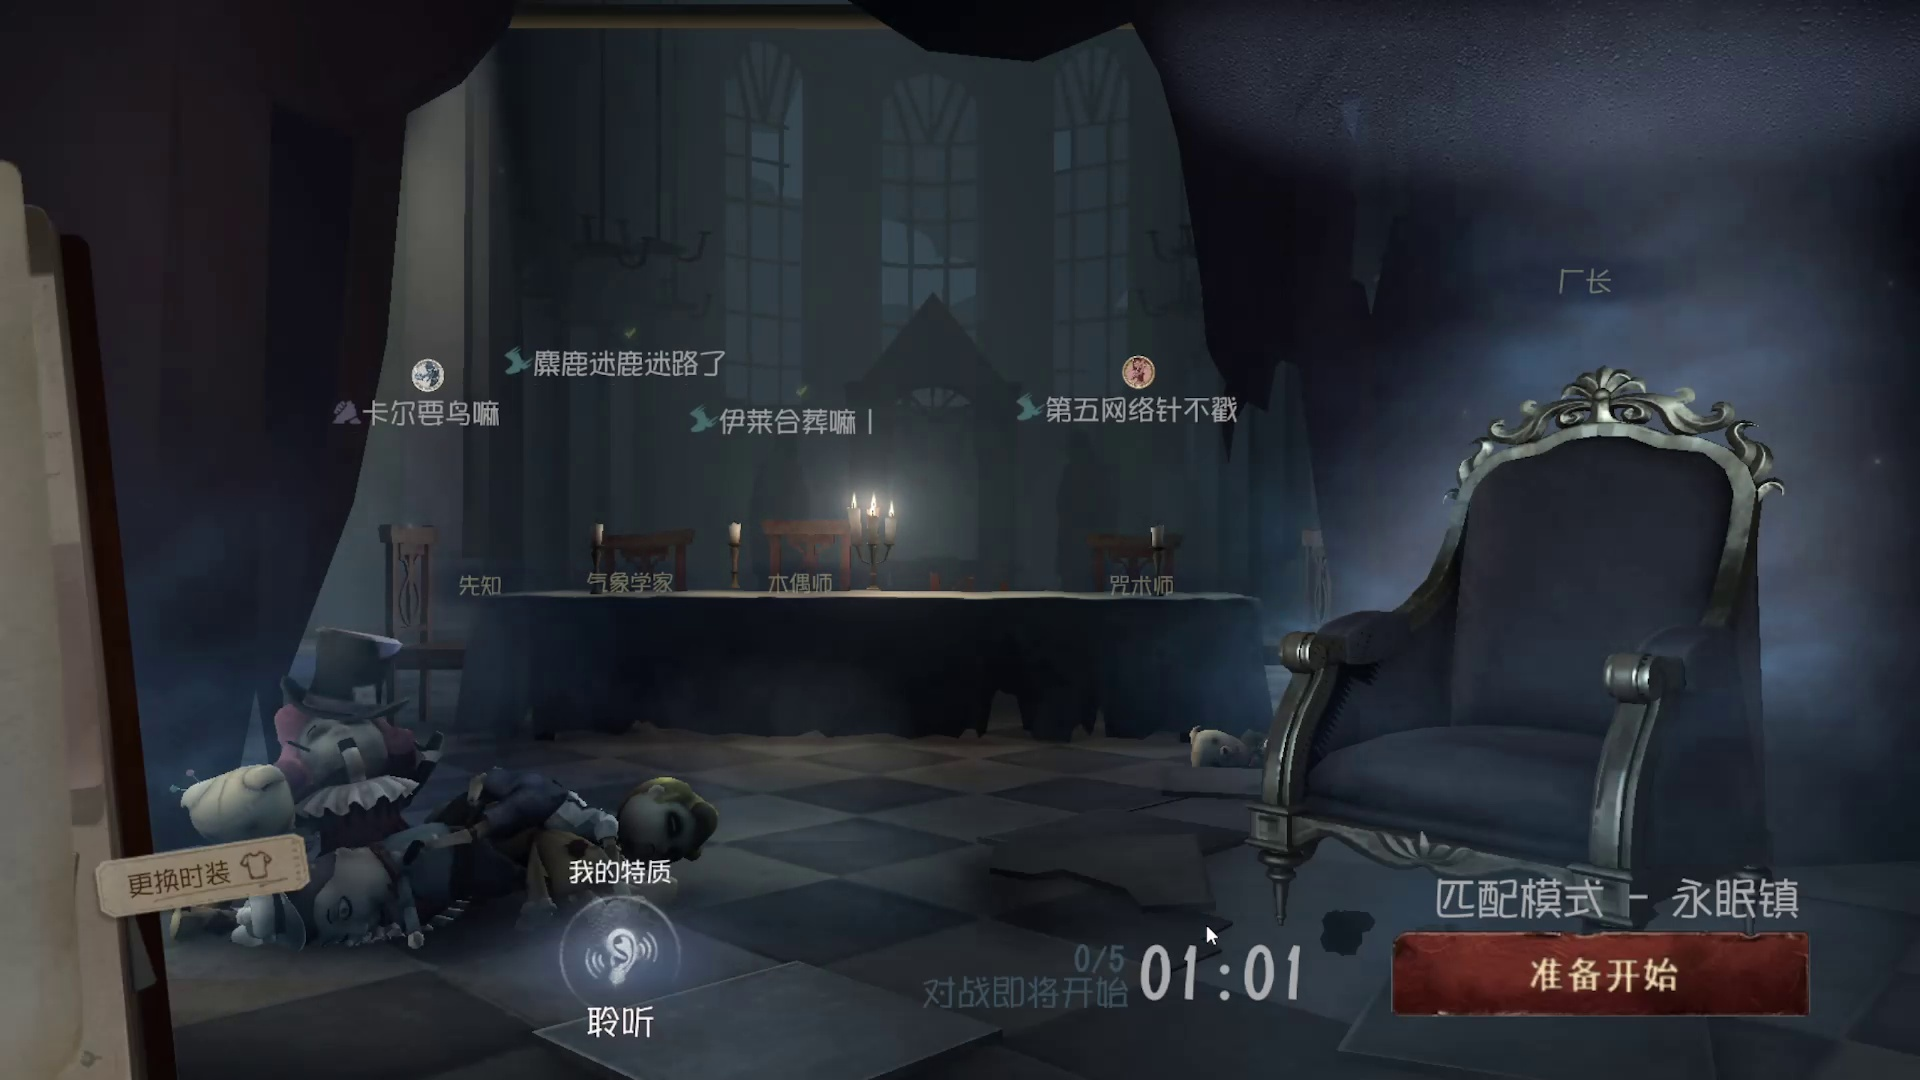准备开始: (1352, 899, 1837, 1031)
